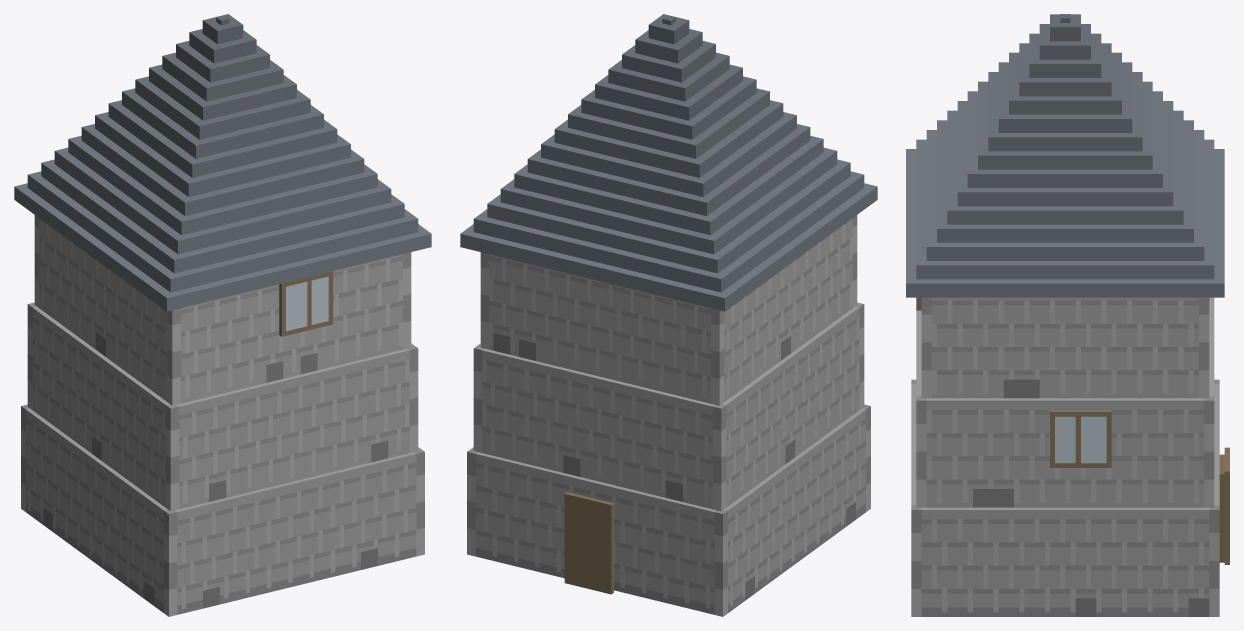
Rendered from torre_militar_04.glb.
3 views of the same model, side by side, from view 1: azimuth 30°, elevation 25°; view 2: azimuth 150°, elevation 25°; view 3: azimuth 270°, elevation 25° (orthographic). The views are drawn at different scales.
Visible parts, largest first — view 1: torre_militar_04; view 2: torre_militar_04; view 3: torre_militar_04.
Part boxes in pixels (bbox=[...]): torre_militar_04: bbox=[14, 14, 431, 616]; torre_militar_04: bbox=[460, 14, 877, 616]; torre_militar_04: bbox=[906, 14, 1229, 616].
Bounding box in the file's own units: 6.2 × 11.5 × 6.3.
